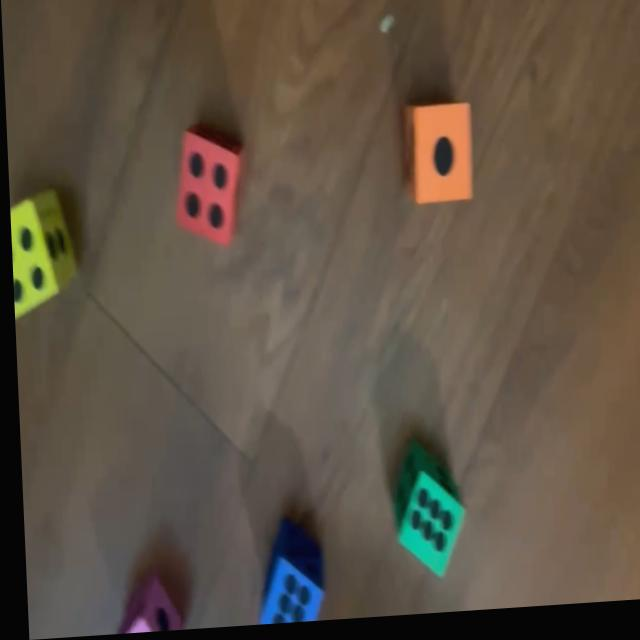blue_block: (250, 520, 318, 628)
red_block: (171, 127, 247, 251)
